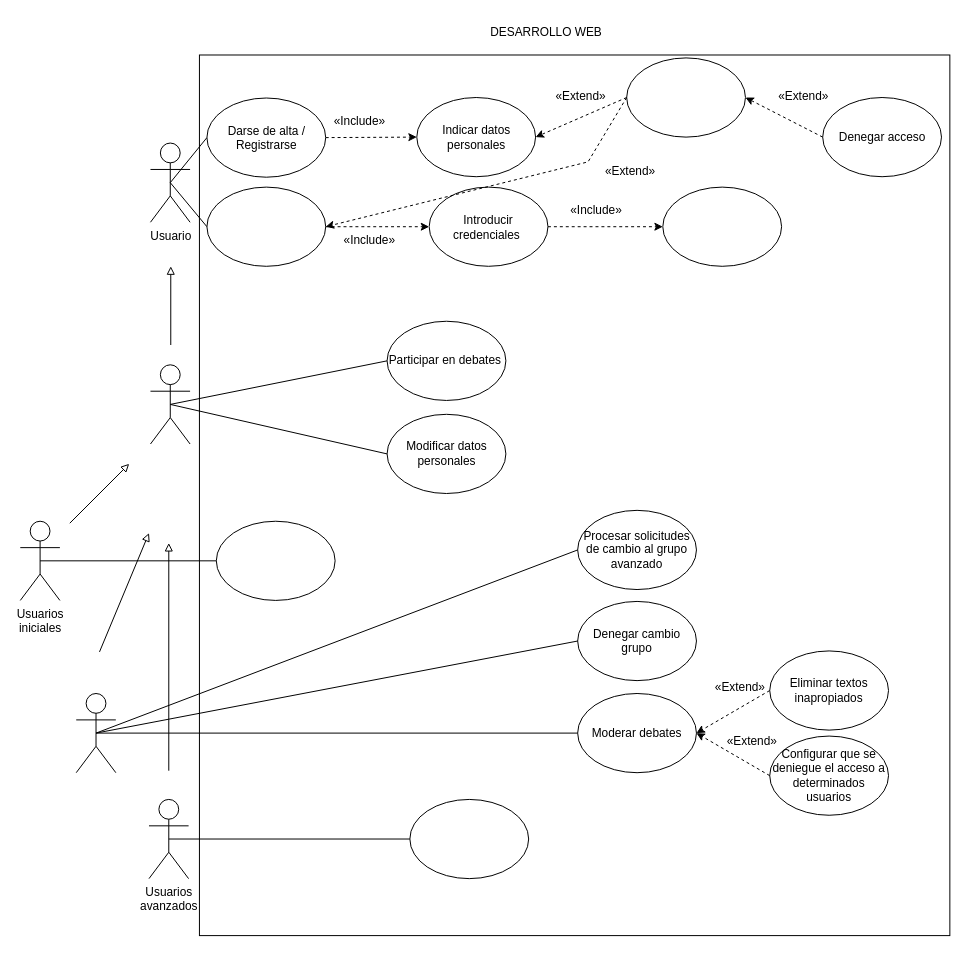
Image size: 967x953. Some labels were removed from this diagram. Each missing label, with the centre of its shape:
"Administradores" belongs at point 95,733.
"Generar o iniciar debates" belongs at point 469,838.
"Identificados" belongs at point 169,404.
"Iniciar sesion" belongs at point 266,226.
"Pulsar accion de inicio" belongs at point 722,226.
"Solicitar cambio a grupo usuarios avanzados" belongs at point 275,560.
"Validacion de credenciales" belongs at point 685,97.
